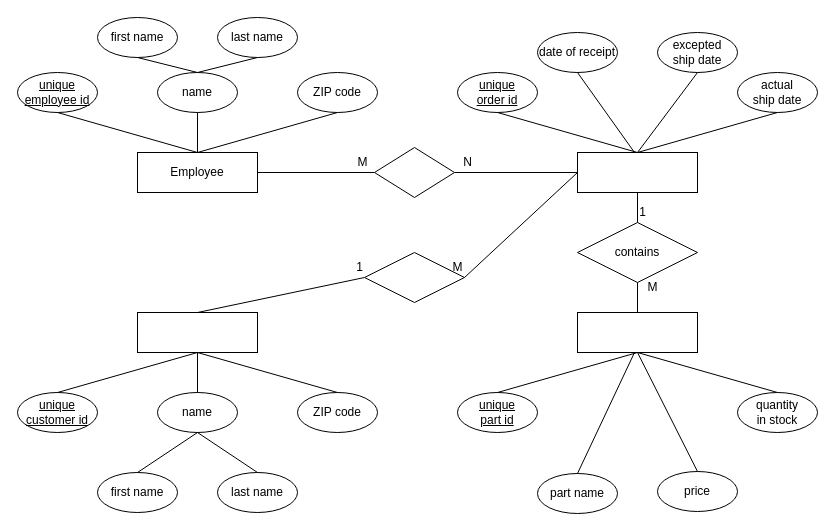
The diagram is 835 pixels wide and 531 high, and some of its shapes have lost their labels. The box of each missing label's shape, as (x1, y1, x2, y2) in pixels:
Customer: (136, 312, 258, 352)
Order: (576, 152, 698, 192)
Part: (576, 312, 698, 352)
places: (364, 252, 464, 302)
takes: (374, 146, 454, 198)
